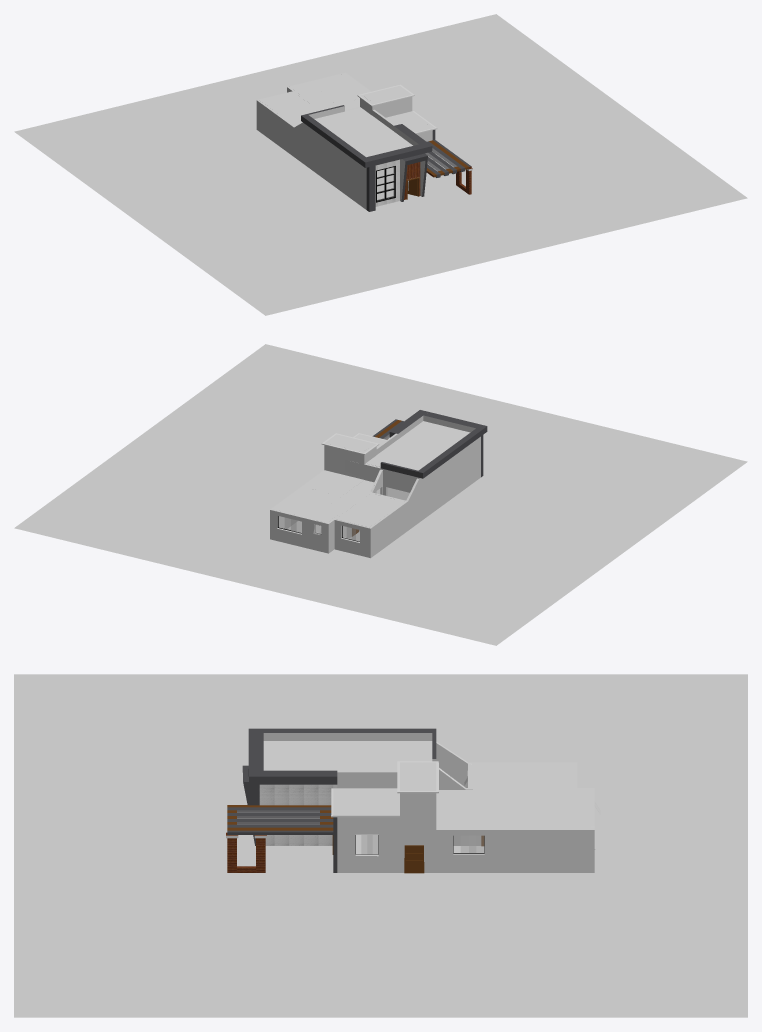
Rendered from uploads_files_3463527_ModernHouse.glb.
3 renders of one model, top to bottom at view 1: azimuth 30°, elevation 25°; view 2: azimuth 150°, elevation 25°; view 3: azimuth 270°, elevation 25°, orthographic. The views are drawn at different scales.
Visible parts, largest first — view 1: Plano, Casa, Plano.001; view 2: Plano, Casa; view 3: Plano, Casa, Plano.001, Porta.001.
Boxes of the visible parts, x1=… form: Plano: x1=14, y1=14, x2=747, y2=315; Casa: x1=256, y1=72, x2=437, y2=211; Plano.001: x1=425, y1=140, x2=472, y2=194; Plano: x1=14, y1=344, x2=747, y2=645; Casa: x1=270, y1=410, x2=487, y2=558; Plano: x1=14, y1=674, x2=747, y2=1017; Casa: x1=242, y1=728, x2=595, y2=872; Plano.001: x1=226, y1=805, x2=333, y2=872; Porta.001: x1=404, y1=845, x2=424, y2=873.
Size of the model in its own units: 54.72 by 6.17 by 49.43.
9 materials, 3 textured.
